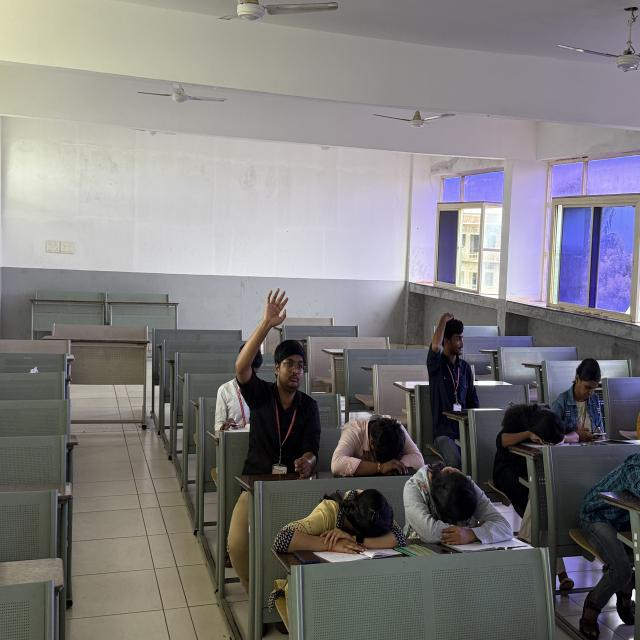Hand Rising: (233, 286, 323, 478), (422, 307, 484, 417)
Sleeping: (273, 478, 408, 584), (404, 460, 520, 561), (327, 399, 433, 483), (493, 396, 579, 480)
Using Phone: (555, 352, 613, 452)
